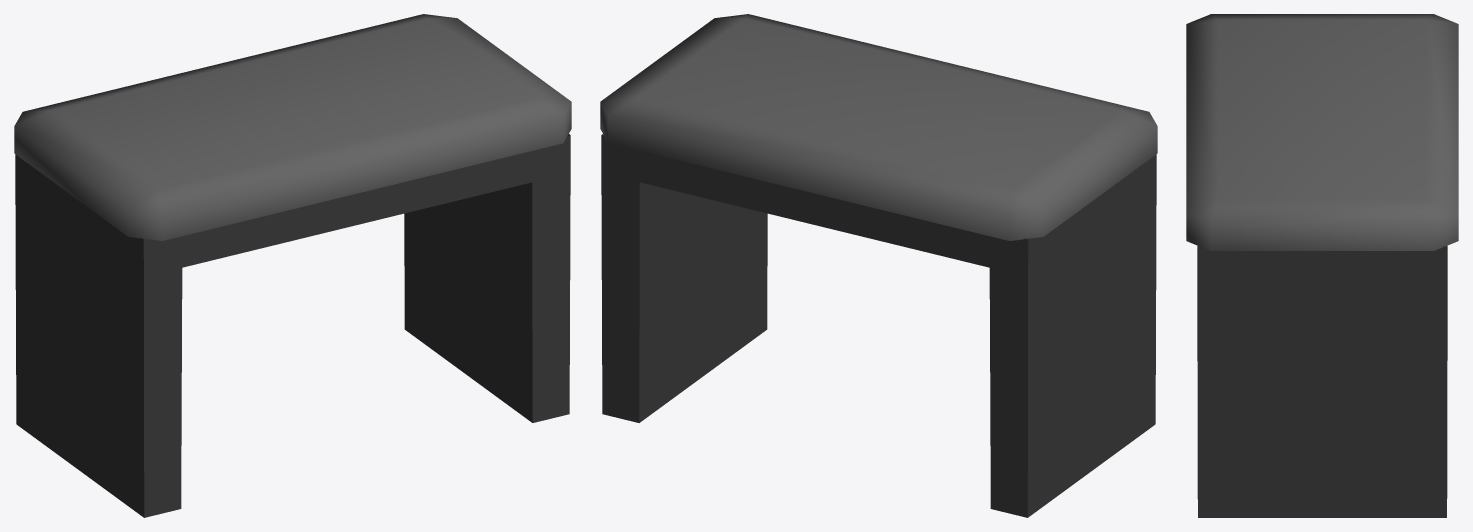
File: musical_instrument_014.glb
3 renders of one model, left to right at view 1: azimuth 30°, elevation 25°; view 2: azimuth 150°, elevation 25°; view 3: azimuth 270°, elevation 25°, orthographic. The views are drawn at different scales.
Parts seen in each view (by area): view 1: musical_instrument_014; view 2: musical_instrument_014; view 3: musical_instrument_014.
Boxes of the visible parts, box(x1,y1,x2,y2) form: musical_instrument_014: box(14, 14, 571, 517); musical_instrument_014: box(600, 14, 1157, 517); musical_instrument_014: box(1186, 14, 1458, 517).
Bounding box in the file's own units: 0.6966 × 0.4732 × 0.3804.
Materials: 1 (1 with a texture image).
